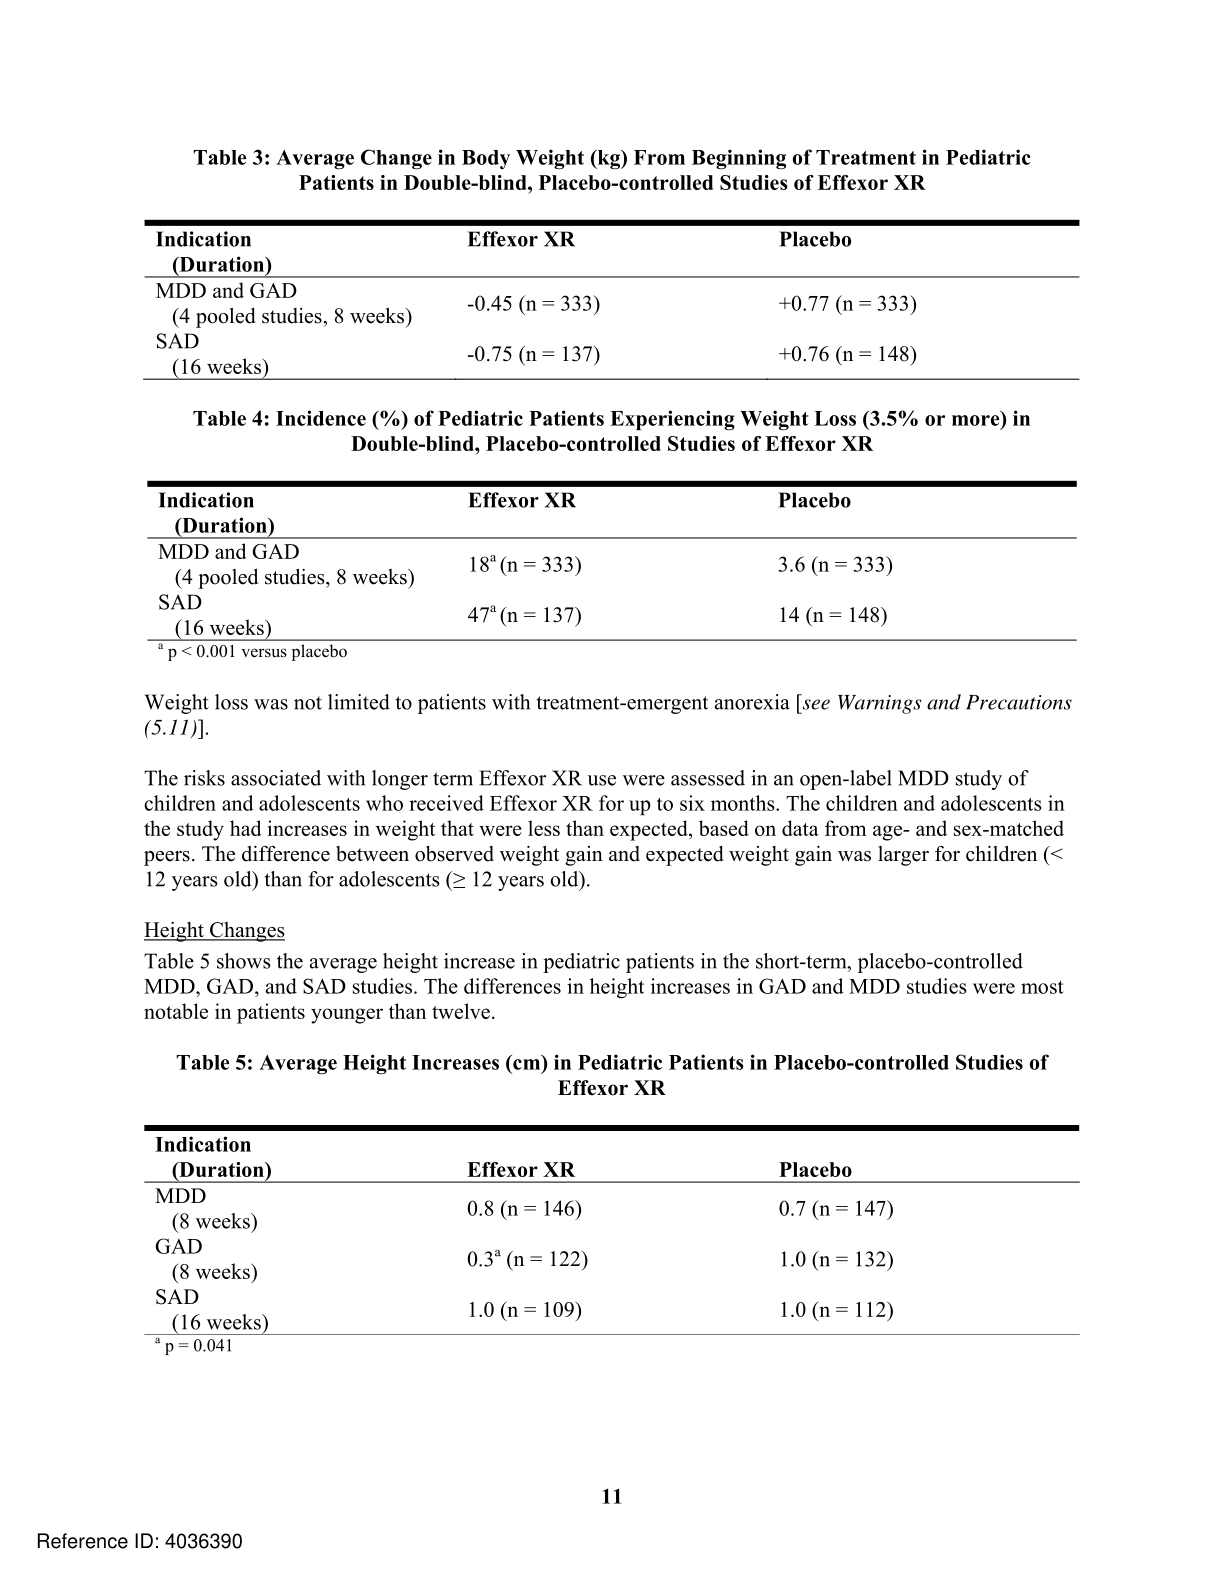partial_lined: (139, 1121, 1086, 1337), (138, 215, 1089, 384), (144, 474, 1081, 644)
